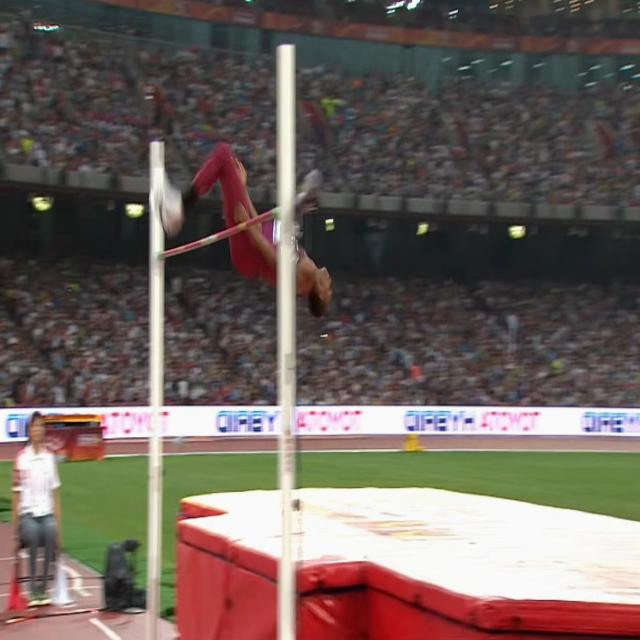land: (151, 142, 333, 317)
